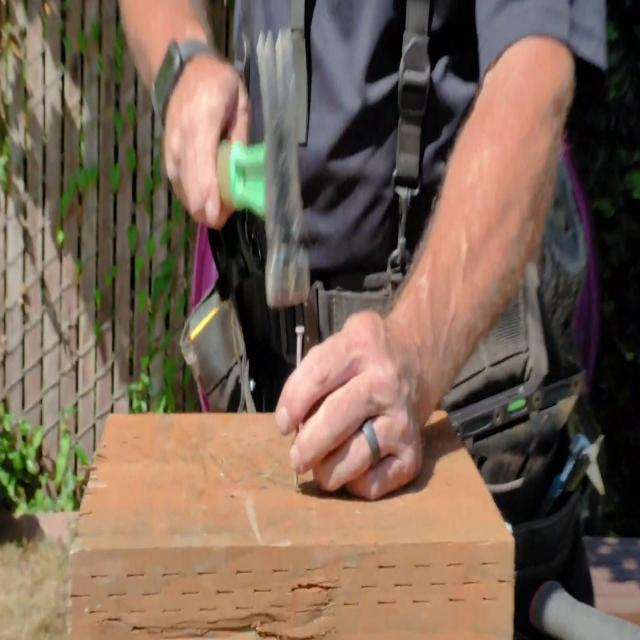hammer: (214, 27, 310, 305)
